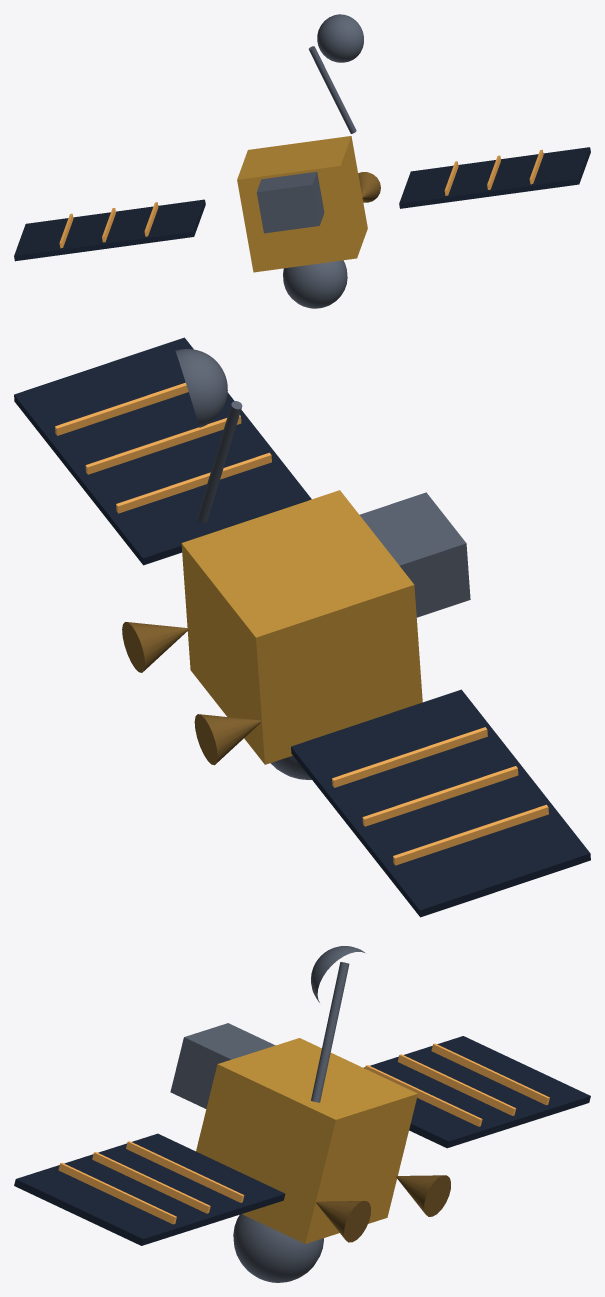
Rendered from mangalyaan.glb.
The picture shows the model from 3 angles, top to bottom: view 1: azimuth 30°, elevation 25°; view 2: azimuth 150°, elevation 25°; view 3: azimuth 270°, elevation 25°; orthographic projection. The views are drawn at different scales.
Visible parts, largest first — view 1: Bus_OrbiterCore, SolarPanels_Left, SolarPanels_Right, Payload_InstrumentBox, Bus_PropellantTank, Antenna_Dish, SolarPanels, Antenna_Mast, Thrusters_Nozzle_0.38; view 2: Bus_OrbiterCore, SolarPanels_Left, SolarPanels_Right, SolarPanels, Payload_InstrumentBox, Antenna_Dish, Thrusters_Nozzle_-0.38, Thrusters_Nozzle_0.38, Antenna_Mast; view 3: Bus_OrbiterCore, SolarPanels_Right, SolarPanels_Left, SolarPanels, Payload_InstrumentBox, Bus_PropellantTank, Thrusters_Nozzle_-0.38, Thrusters_Nozzle_0.38, Antenna_Mast, Antenna_Dish.
Boxes of the visible parts, x1,y1,x2,y2 form: Bus_OrbiterCore: [237, 136, 367, 272]; SolarPanels_Left: [14, 199, 205, 261]; SolarPanels_Right: [399, 147, 590, 208]; Payload_InstrumentBox: [256, 171, 324, 233]; Bus_PropellantTank: [283, 260, 347, 308]; Antenna_Dish: [317, 14, 363, 62]; SolarPanels: [59, 149, 543, 248]; Antenna_Mast: [308, 46, 356, 133]; Thrusters_Nozzle_0.38: [358, 172, 380, 202]; Bus_OrbiterCore: [181, 490, 422, 764]; SolarPanels_Left: [291, 689, 590, 917]; SolarPanels_Right: [14, 337, 311, 565]; SolarPanels: [55, 382, 548, 865]; Payload_InstrumentBox: [359, 492, 470, 617]; Antenna_Dish: [175, 349, 227, 427]; Thrusters_Nozzle_-0.38: [194, 714, 261, 765]; Thrusters_Nozzle_0.38: [122, 622, 188, 672]; Antenna_Mast: [197, 401, 242, 522]; Bus_OrbiterCore: [196, 1038, 417, 1243]; SolarPanels_Right: [14, 1133, 285, 1245]; SolarPanels_Left: [363, 1036, 590, 1148]; SolarPanels: [58, 1043, 549, 1224]; Payload_InstrumentBox: [170, 1023, 275, 1108]; Bus_PropellantTank: [233, 1214, 323, 1282]; Thrusters_Nozzle_-0.38: [396, 1175, 450, 1216]; Thrusters_Nozzle_0.38: [316, 1201, 370, 1242]; Antenna_Mast: [311, 962, 349, 1102]; Antenna_Dish: [311, 946, 364, 1002].
Size of the model in its own units: 4.73 by 2.54 by 3.65.
